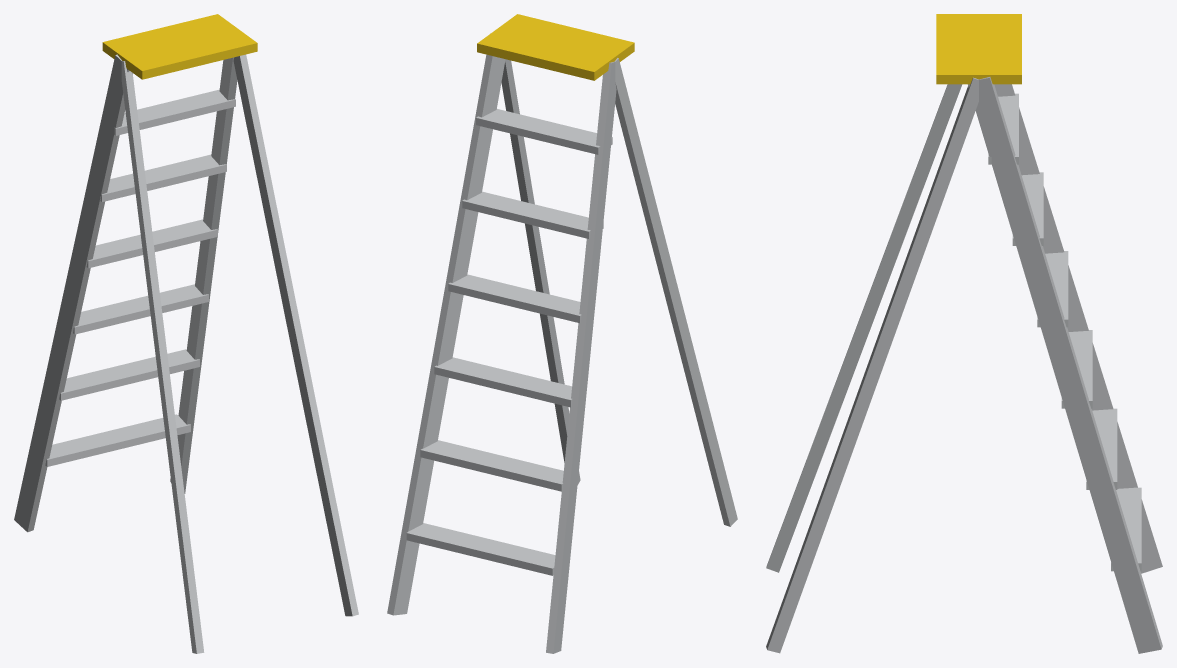
The model's file is plant.access.step_ladder.glb.
3 views of the same model, side by side, from view 1: azimuth 30°, elevation 25°; view 2: azimuth 150°, elevation 25°; view 3: azimuth 270°, elevation 25° (orthographic). The views are drawn at different scales.
Visible parts, largest first — view 1: main__aluminium, main__plastic_yellow; view 2: main__aluminium, main__plastic_yellow; view 3: main__aluminium, main__plastic_yellow.
Part boxes in pixels (x1,y1,x2,y2): main__aluminium: (14,54,358,653); main__plastic_yellow: (102,14,257,79); main__aluminium: (387,54,737,653); main__plastic_yellow: (477,14,634,80); main__aluminium: (766,77,1162,653); main__plastic_yellow: (936,14,1021,84).
Bounding box in the file's own units: 0.5953 × 1.82 × 1.16.
